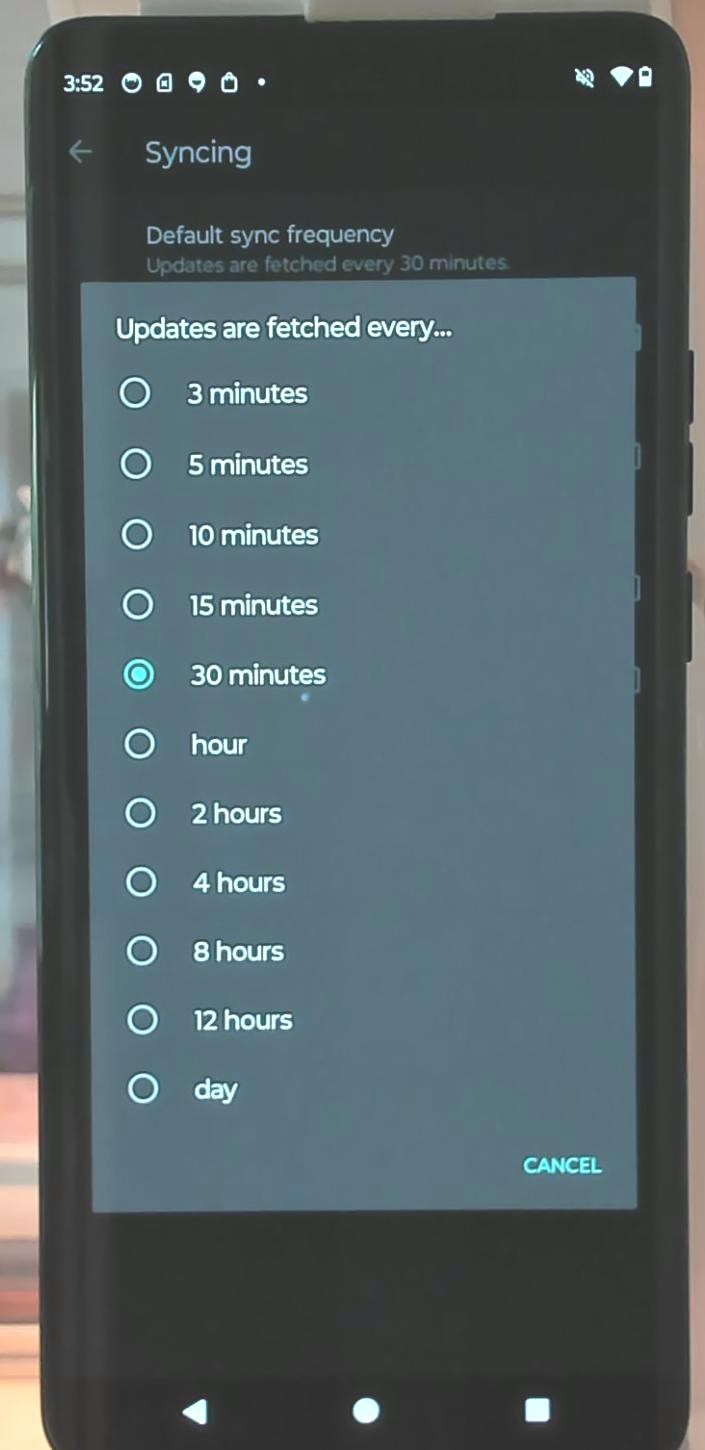CommunBotton: (173, 1388, 220, 1433), (344, 1384, 387, 1432), (515, 1385, 556, 1434)
RadioButton: (121, 861, 162, 902), (120, 792, 162, 832), (122, 723, 159, 763), (116, 372, 153, 411), (118, 444, 155, 483), (120, 585, 158, 621), (126, 1068, 162, 1106), (124, 931, 160, 968), (125, 1000, 161, 1037), (118, 516, 156, 551), (121, 657, 156, 692)
